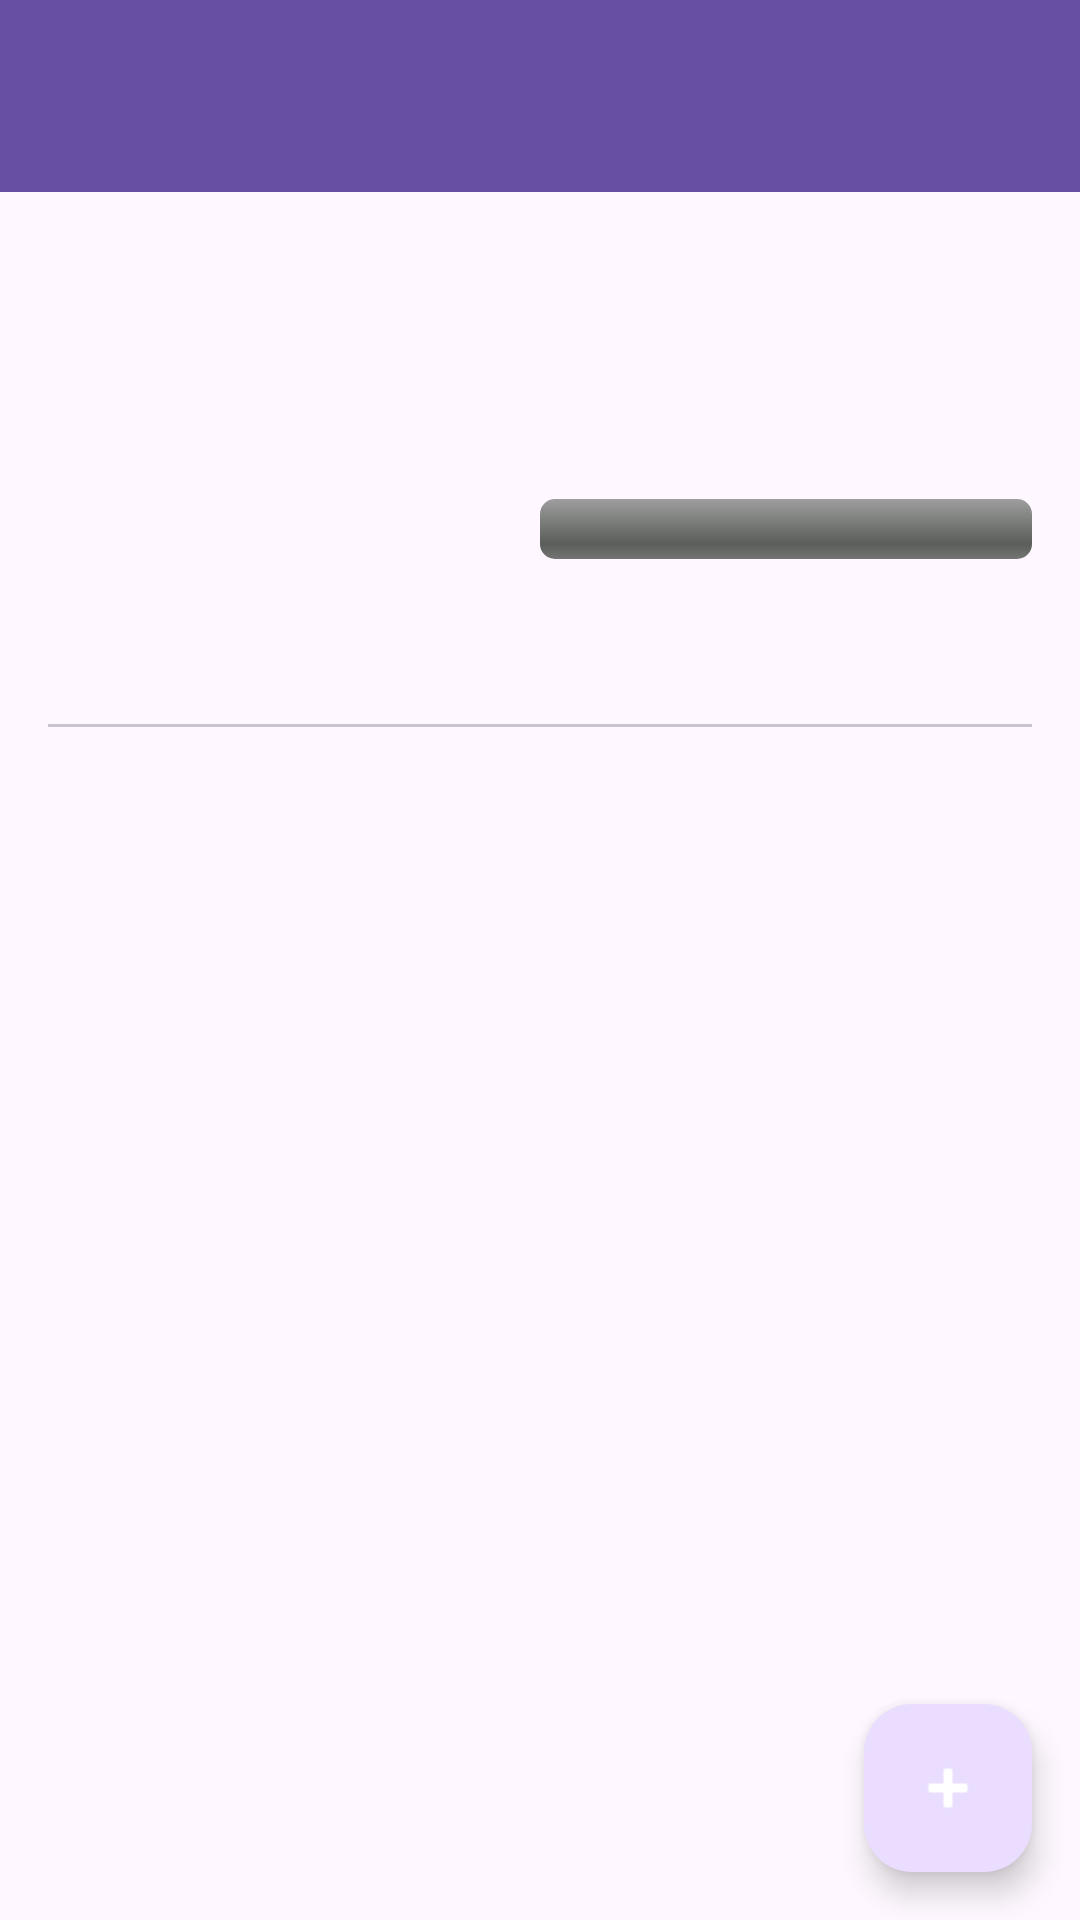

Screen size 1080 x 1920. Icon name, then its center in pixels as point (x, y):
Add item: point (948, 1788)
